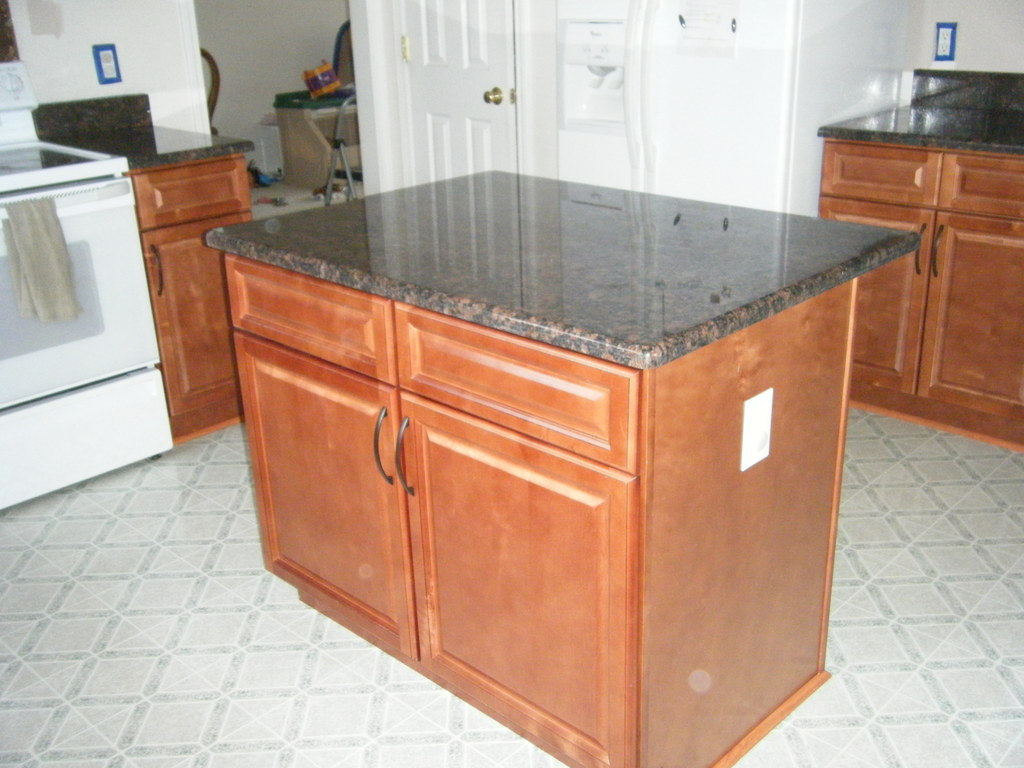Cabinetry: (180, 78, 932, 741), (820, 92, 1023, 450), (126, 146, 263, 446)
